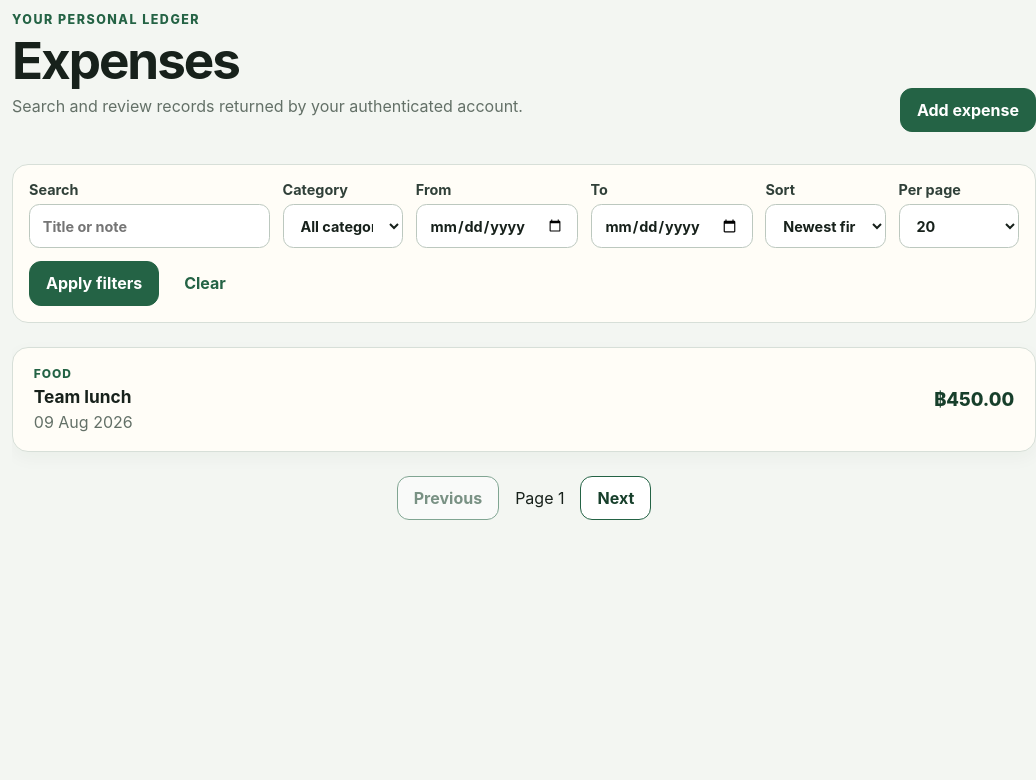
Test: ExpenseListPage › renders results and sends the server-issued cursor unchanged
This screenshot has width=1036, height=780.
expect the link "Team lunch" is shown: met, box [34,386,131,407]
Click the button "Next".
click(616, 498)  # box [580,476,651,520]
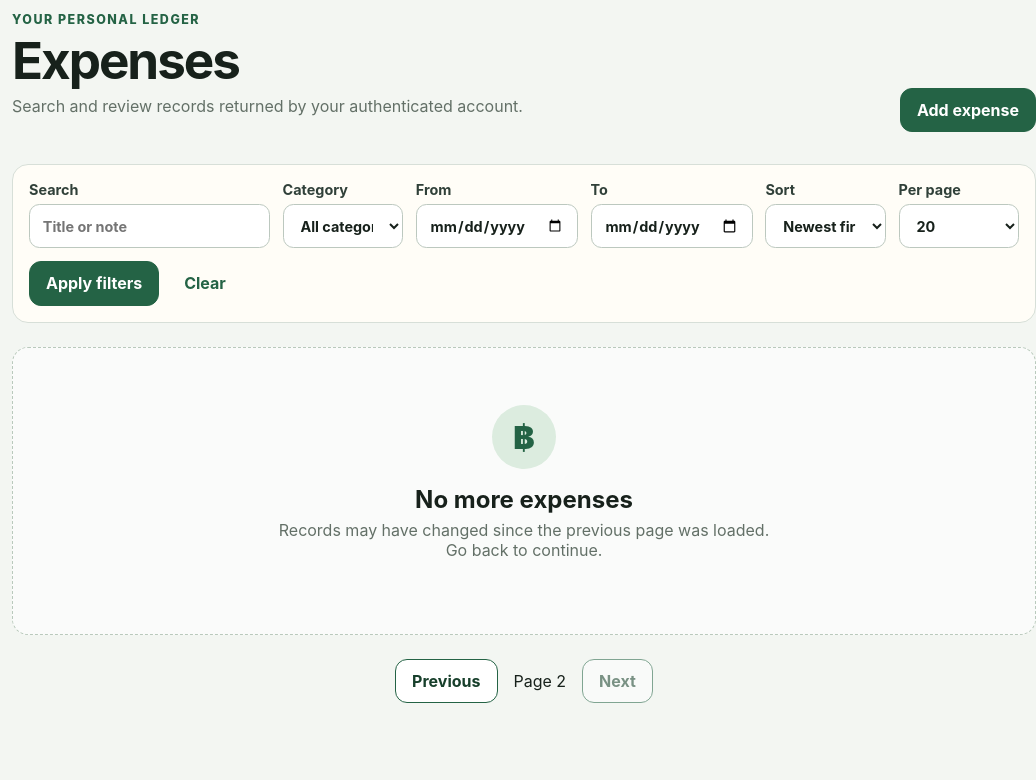
expect the text "Page 2" is shown: met, box [514,671,566,691]
